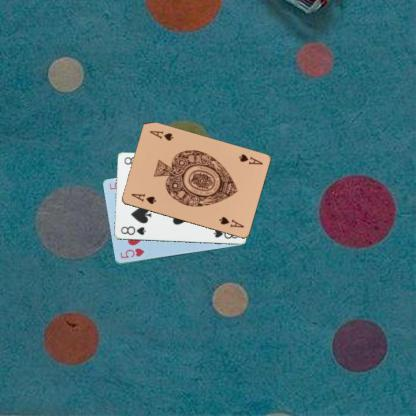5h: (117, 245, 146, 260)
8s: (118, 224, 147, 236)
As: (128, 191, 157, 206), (236, 151, 263, 166)
